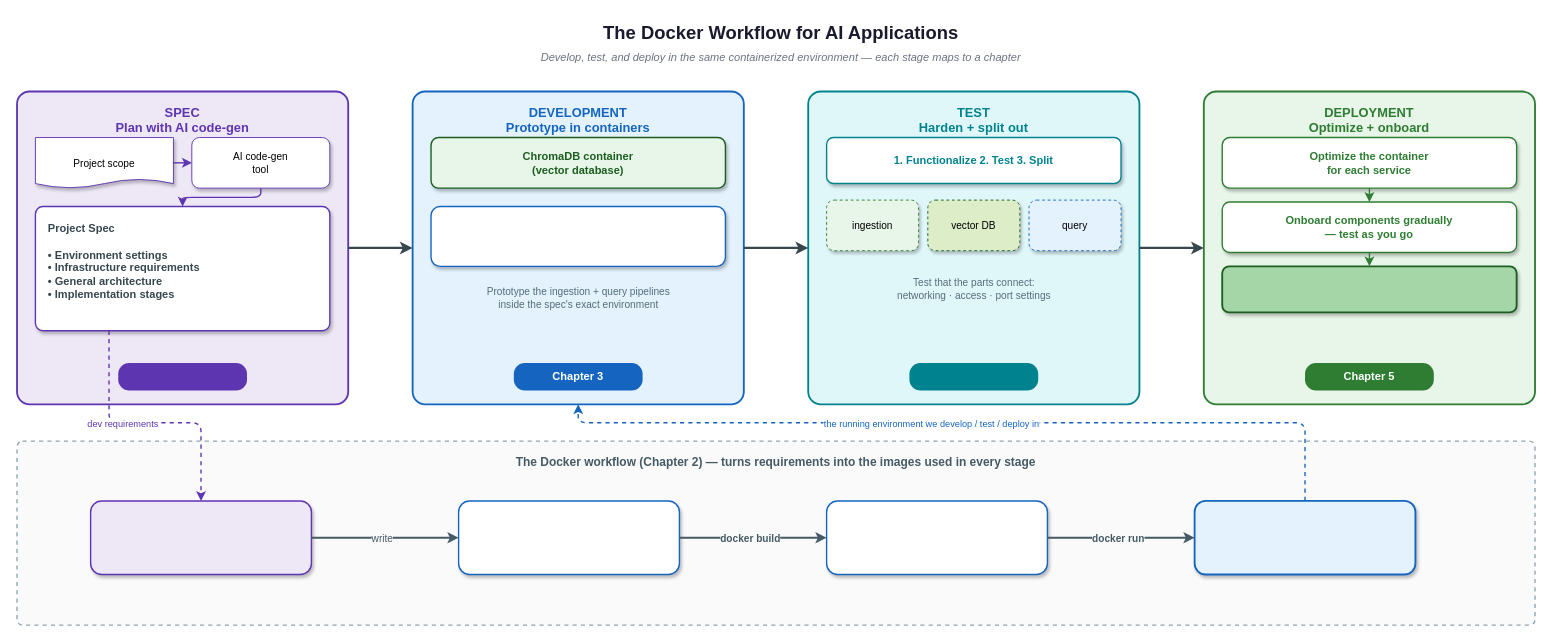
Image size: 1551x641. Some labels were removed from this diagram. Here are the shapes that lost their labels. From the top down, the centre of each, then its label:
At (x=578, y=237): "Python development container VS Code + Dev Containers extension".
At (x=1370, y=290): "Production — fully deployed".
At (x=182, y=376): "Chapter 2".
At (x=973, y=376): "Chapter 4".
At (x=201, y=538): "Dev environment requirements".
At (x=569, y=538): "Dockerfile".
At (x=937, y=538): "Image".
At (x=1305, y=538): "Container".
